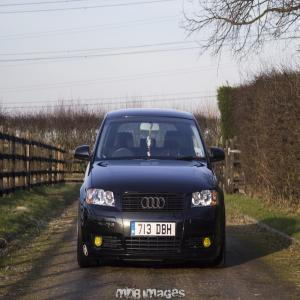Vehicle-registration-plate: (131, 221, 177, 237)
